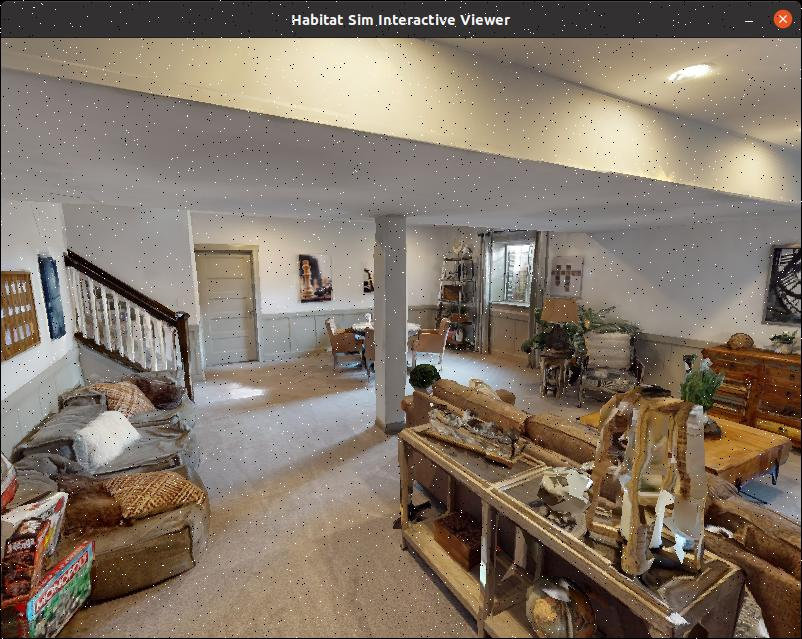chair: (404, 321, 481, 374), (323, 313, 376, 375)
door: (189, 233, 281, 388)
sofa: (6, 381, 241, 612)
stairs: (62, 227, 201, 398)
